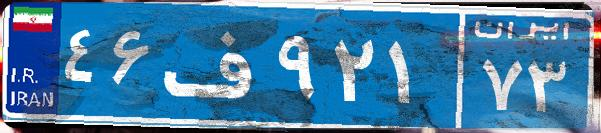1: (385, 28, 445, 110)
2: (330, 28, 385, 110)
3: (525, 38, 570, 115)
4: (57, 26, 110, 107)
6: (110, 28, 158, 105)
7: (475, 38, 525, 113)
9: (273, 28, 330, 110)
ف: (158, 15, 273, 115)
